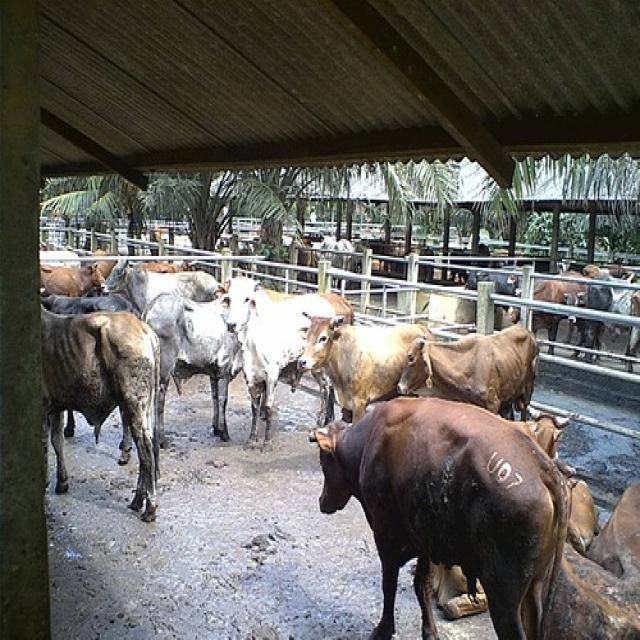cow: (308, 398, 574, 638), (41, 306, 160, 522), (222, 276, 354, 452), (297, 307, 430, 423), (143, 294, 240, 447), (396, 321, 540, 421), (102, 260, 219, 312), (37, 260, 104, 296)
